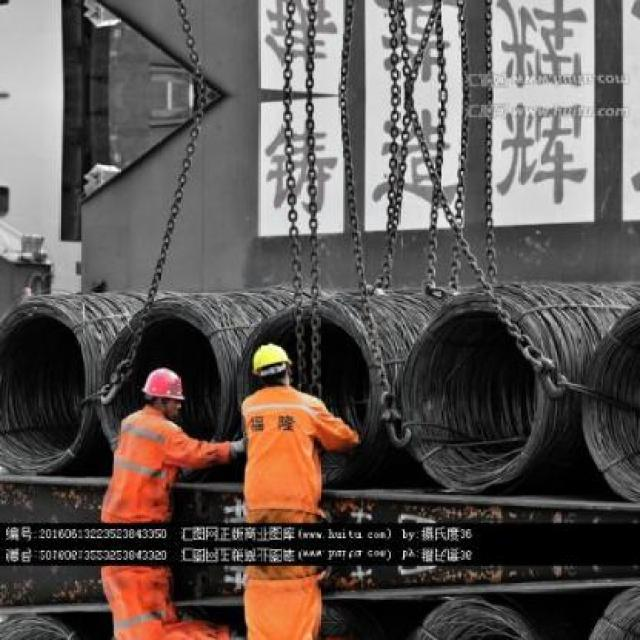helmet: (139, 366, 187, 419), (253, 341, 292, 388)
